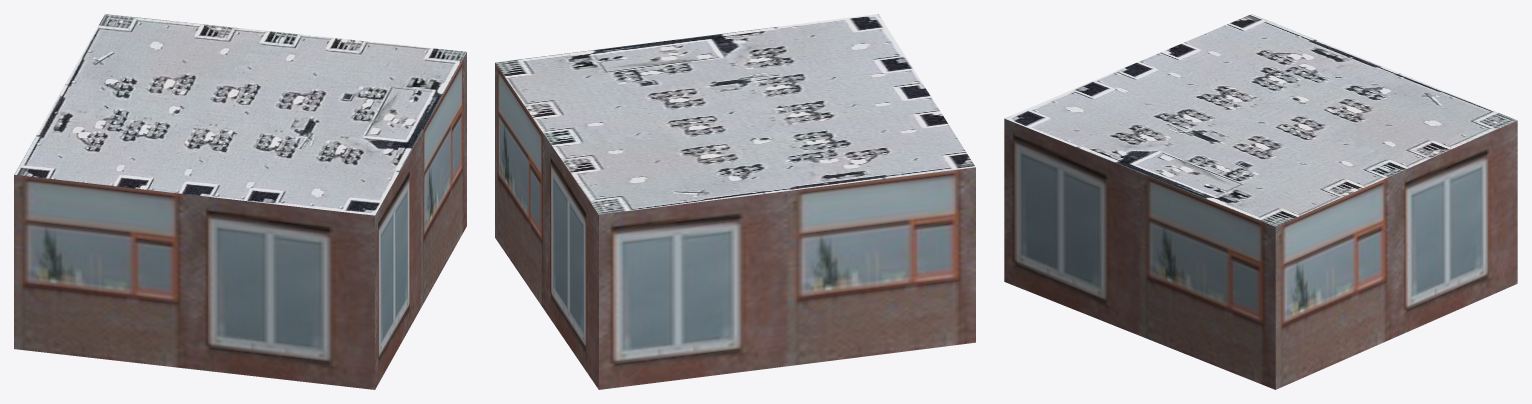
The model's file is ResTex__4135.fbx.
The picture shows the model from 3 angles, left to right: view 1: azimuth 30°, elevation 25°; view 2: azimuth 150°, elevation 25°; view 3: azimuth 270°, elevation 25°; orthographic projection. The views are drawn at different scales.
Parts seen in each view (by area): view 1: CityEngineMaterial_19_m, CityEngineMaterial_8_m; view 2: CityEngineMaterial_19_m, CityEngineMaterial_8_m; view 3: CityEngineMaterial_19_m, CityEngineMaterial_8_m.
Boxes of the visible parts, x1,y1,x2,y2 form: CityEngineMaterial_19_m: [14, 52, 466, 389]; CityEngineMaterial_8_m: [14, 14, 466, 215]; CityEngineMaterial_19_m: [495, 63, 975, 389]; CityEngineMaterial_8_m: [495, 14, 975, 214]; CityEngineMaterial_19_m: [1004, 118, 1517, 389]; CityEngineMaterial_8_m: [1005, 14, 1517, 226].
Size of the model in its own units: 8.39 by 3 by 8.55.
2 materials, 2 textured.
